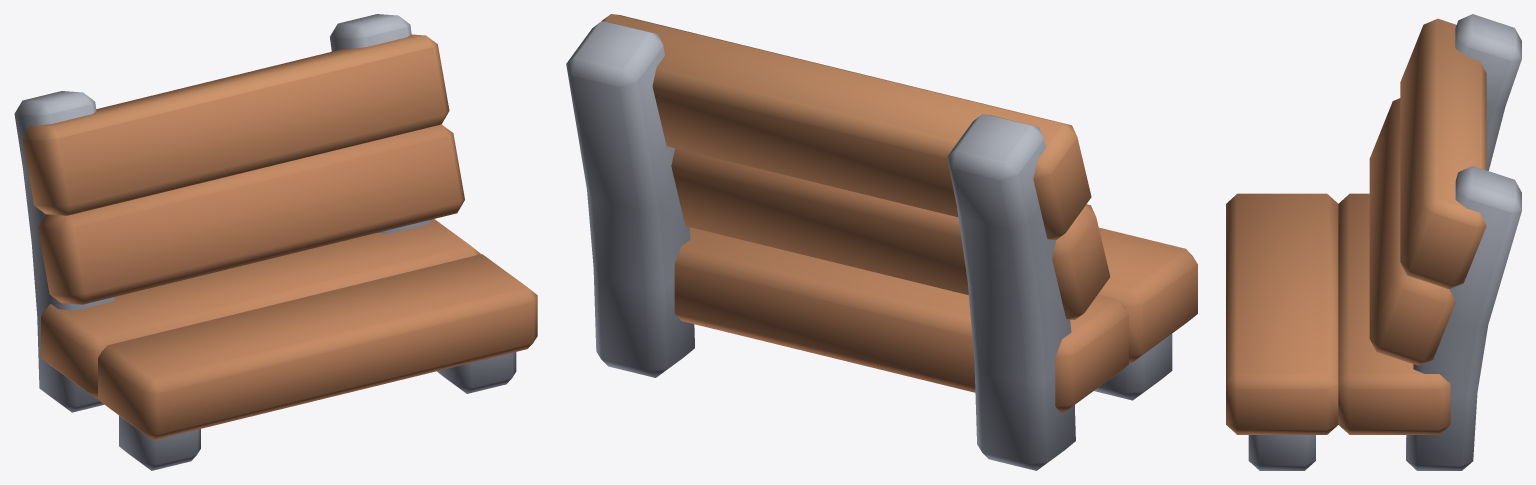
File: bench.gltf
The picture shows the model from 3 angles, left to right: view 1: azimuth 30°, elevation 25°; view 2: azimuth 150°, elevation 25°; view 3: azimuth 270°, elevation 25°; orthographic projection. The views are drawn at different scales.
Visible parts, largest first — view 1: bench; view 2: bench; view 3: bench.
Part boxes in pixels (box(x1,y1,x2,y2)): bench: box(14, 14, 537, 470); bench: box(566, 14, 1197, 470); bench: box(1226, 14, 1521, 470).
Bounding box in the file's own units: 2 × 1.41 × 1.32.
Materials: 1 (1 with a texture image).
